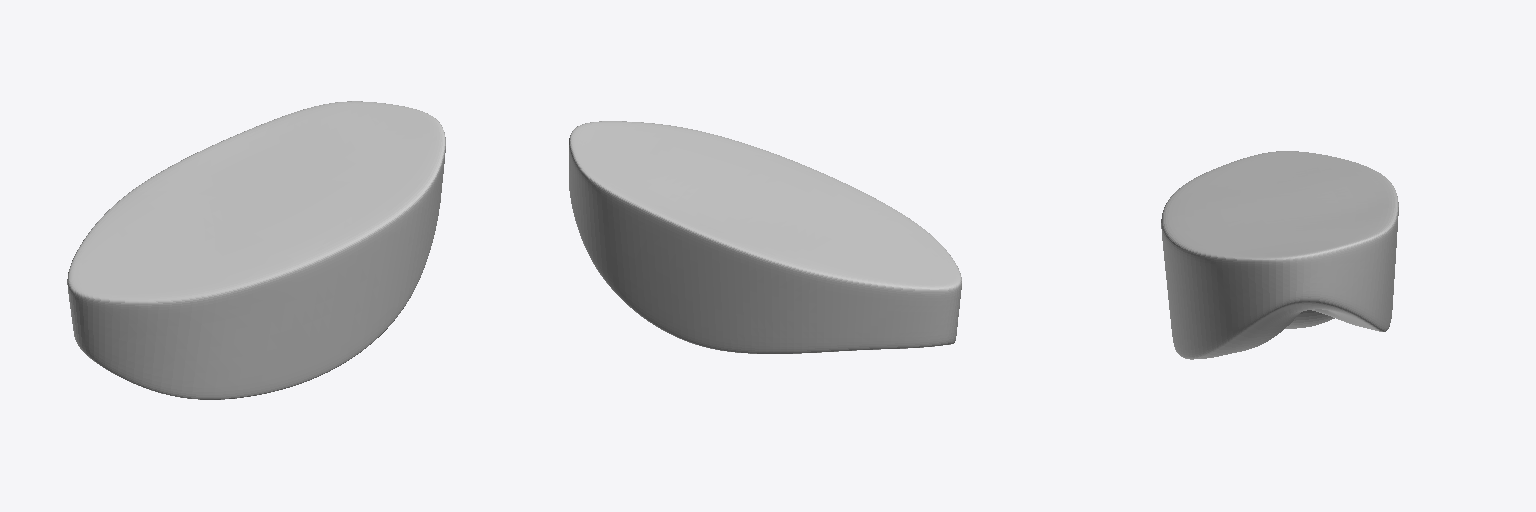
Rendered from 16837_eye_v2_NEW.obj.
3 views of the same model, side by side, from view 1: azimuth 30°, elevation 25°; view 2: azimuth 150°, elevation 25°; view 3: azimuth 270°, elevation 25° (orthographic).
Parts seen in each view (by area): view 1: 16837_eye_v2; view 2: 16837_eye_v2; view 3: 16837_eye_v2.
Part boxes in pixels (x1,y1,x2,y2): 16837_eye_v2: (67, 101, 445, 399); 16837_eye_v2: (569, 121, 961, 353); 16837_eye_v2: (1161, 151, 1398, 359).
Bounding box in the file's own units: 8.07 × 3.72 × 4.45.